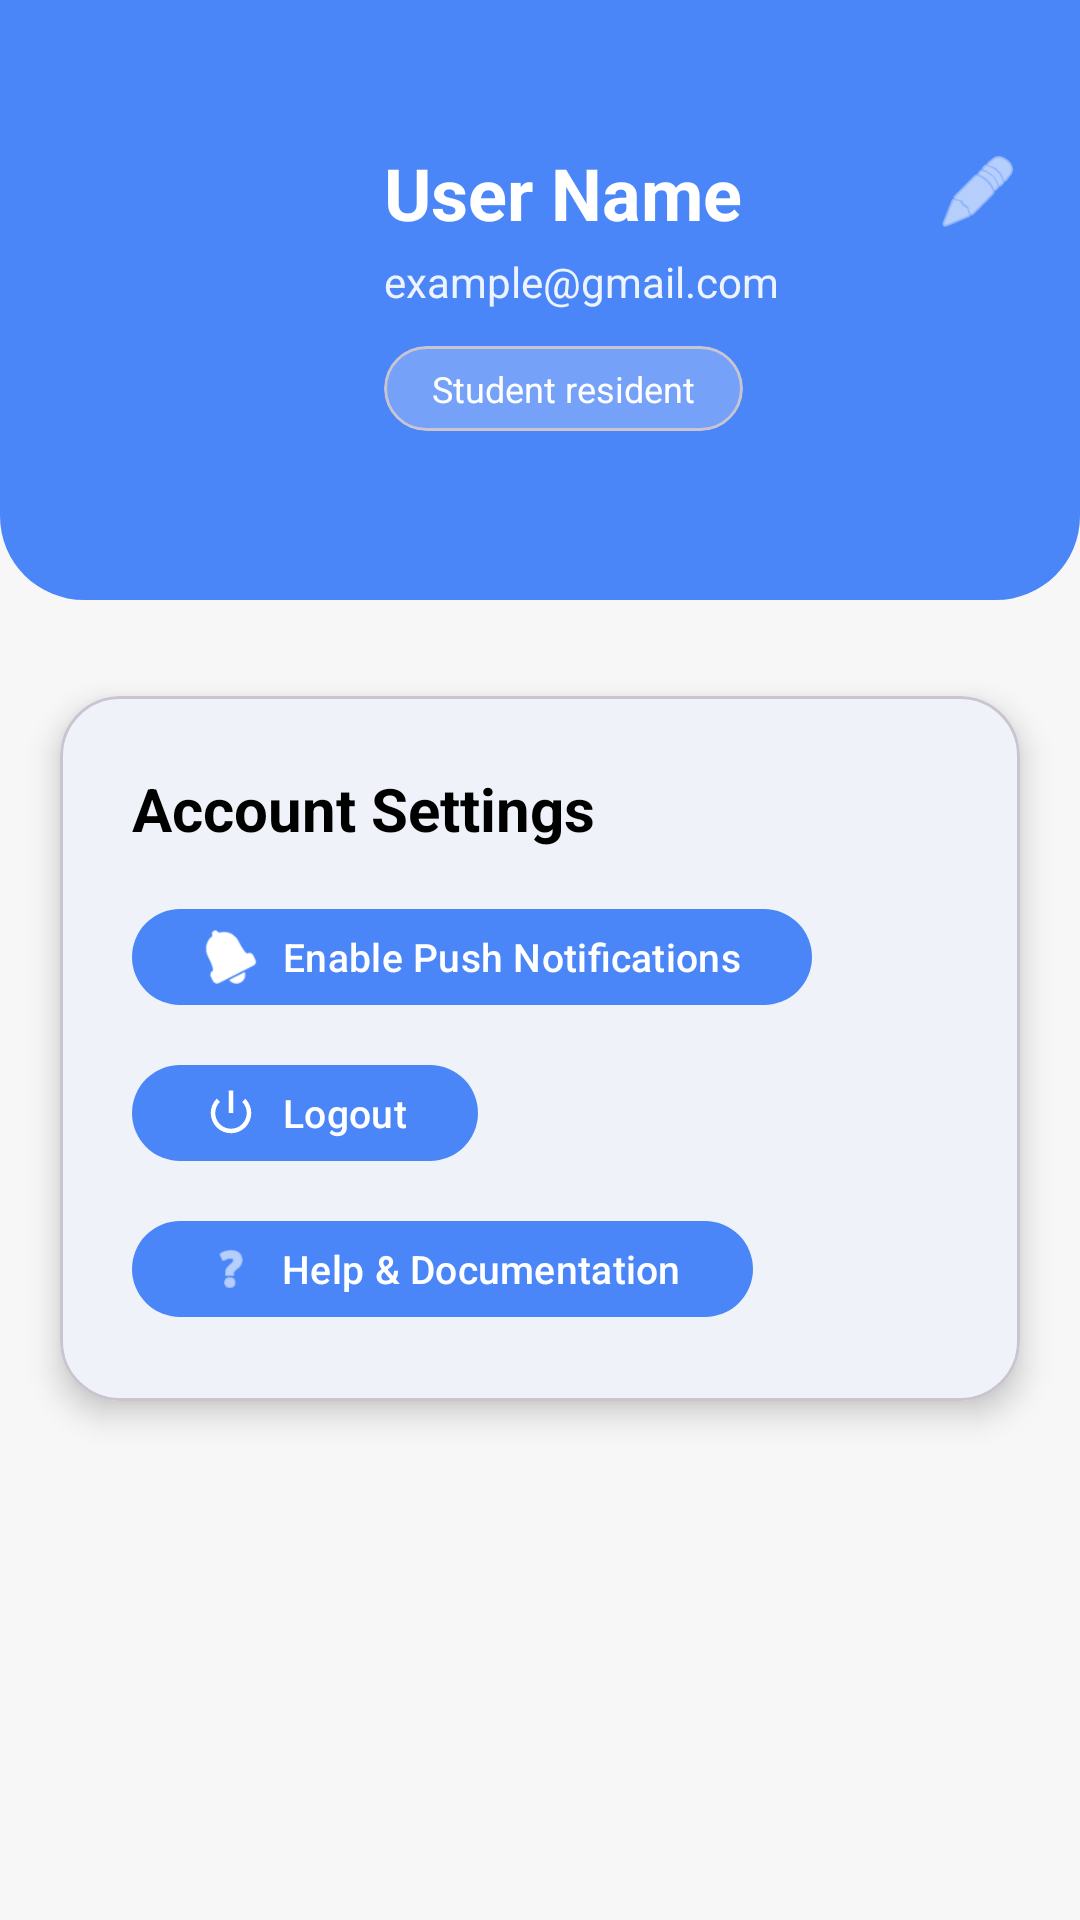

Where to tap for icons on this 1080px×1920px app screen, as (x=x, y=y):
edit: (x=977, y=191)
